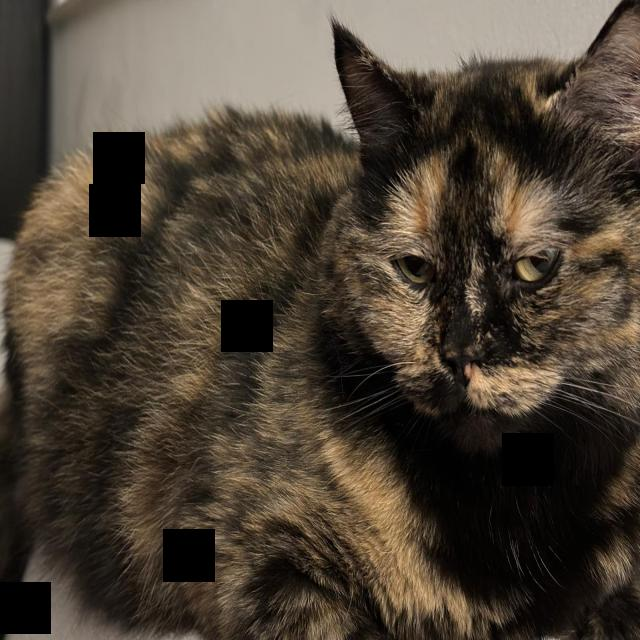authorized: (1, 1, 638, 638)
